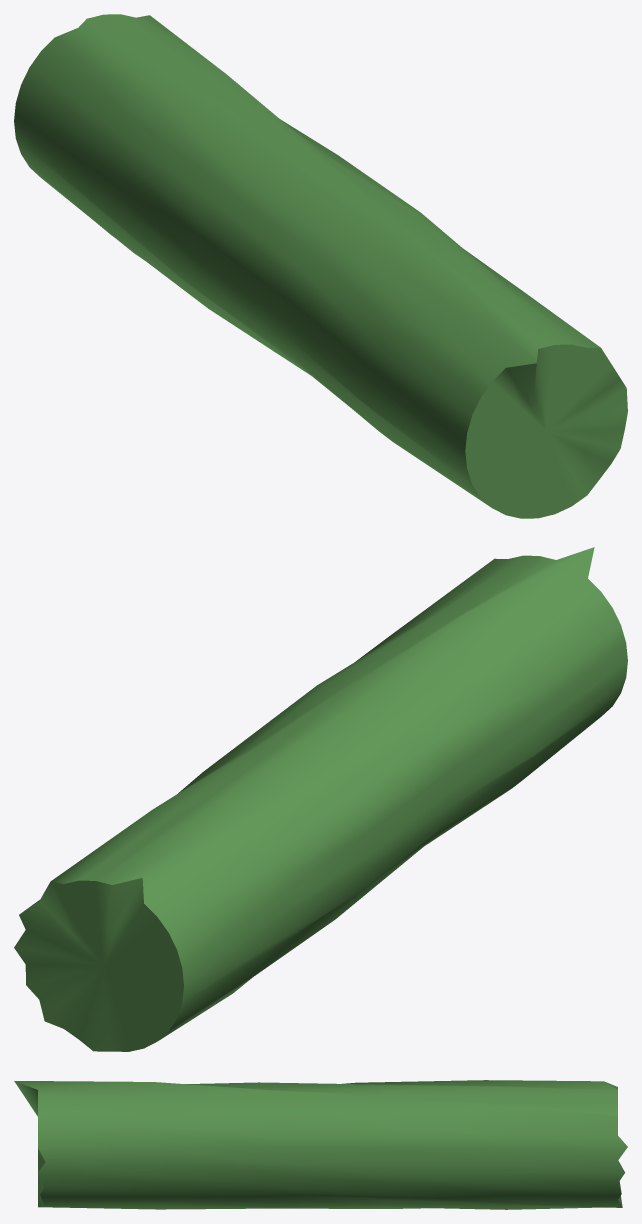
Rendered from worldv3.obj.
3 views of the same model, one above another, from view 1: azimuth 30°, elevation 25°; view 2: azimuth 150°, elevation 25°; view 3: azimuth 270°, elevation 25° (orthographic). The views are drawn at different scales.
Parts seen in each view (by area): view 1: pCylinder1; view 2: pCylinder1; view 3: pCylinder1.
Part boxes in pixels (x1=…): pCylinder1: x1=14, y1=14, x2=627, y2=518; pCylinder1: x1=14, y1=547, x2=627, y2=1051; pCylinder1: x1=14, y1=1080, x2=627, y2=1209.
Bounding box in the file's own units: 2.15 × 2.28 × 10.17.
